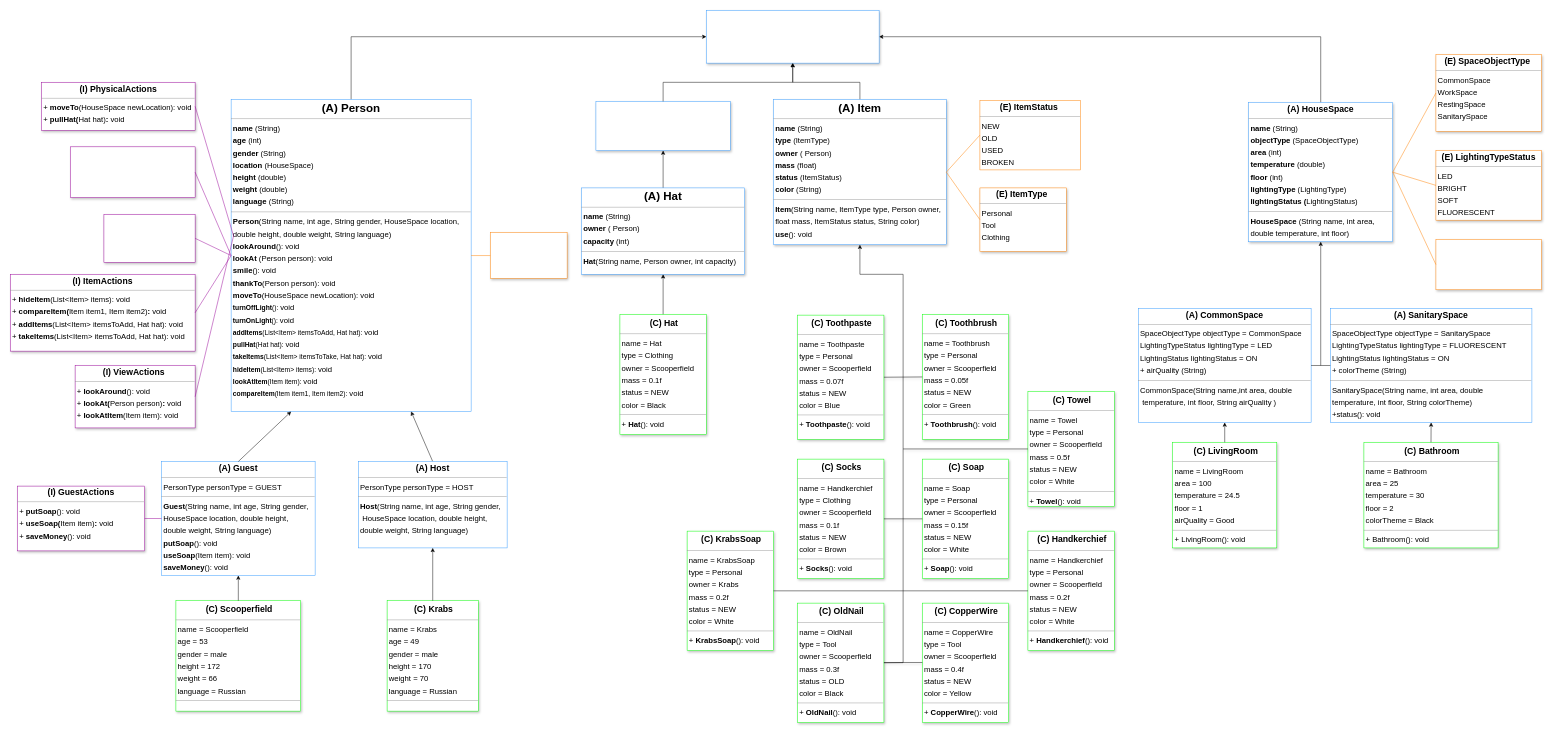
The diagram is 1553 pixels wide and 734 high, and some of its shapes have lost their labels. Each missing label, with the centre of its shape:
(A) PhysicalObject + static void main(String[] args): pixel 793 37
(A) StorageSpace storageItems (List<Item>): pixel 663 126
(E) LightingStatus ON OFF: pixel 1489 265
(E) PersonType GUEST HOST: pixel 529 256
(I) EmotionalActions + smile (): void + thankTo( Person person) : void: pixel 133 172
(I) LightActions + turnOffLight (): void + turnOnLight( ) : void: pixel 150 239
